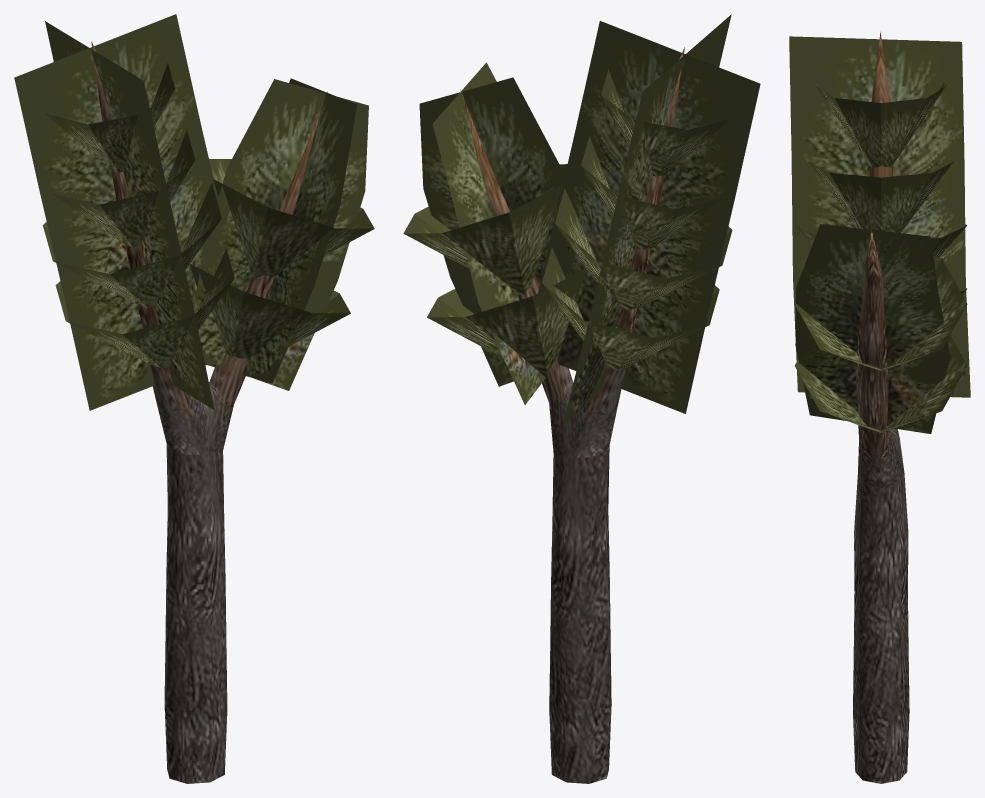
The model's file is DesertTree.fbx.
The picture shows the model from 3 angles, left to right: view 1: azimuth 30°, elevation 25°; view 2: azimuth 150°, elevation 25°; view 3: azimuth 270°, elevation 25°; orthographic projection. The views are drawn at different scales.
Parts seen in each view (by area): view 1: Desert Tree 2; view 2: Desert Tree 2; view 3: Desert Tree 2.
Part boxes in pixels (x1,y1,x2,y2): Desert Tree 2: (14, 14, 374, 783); Desert Tree 2: (403, 14, 760, 783); Desert Tree 2: (789, 32, 970, 783).
Size of the model in its own units: 5.1 by 10.64 by 2.51.
